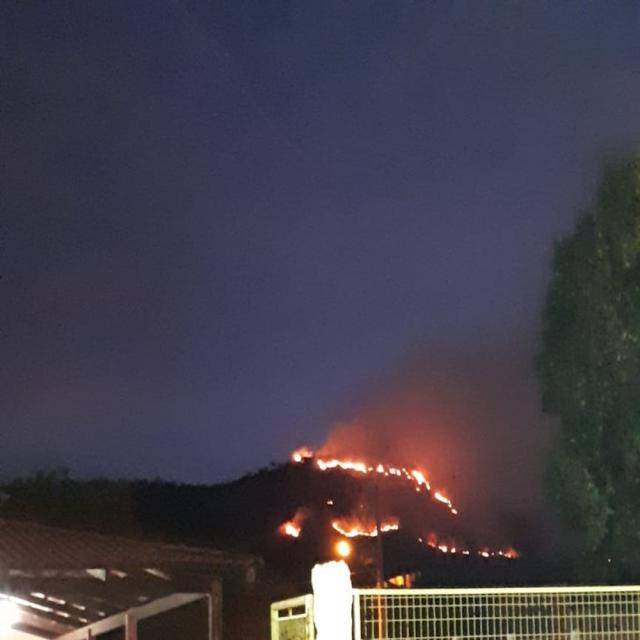Fire: (299, 450, 461, 502), (431, 534, 517, 560), (331, 518, 399, 540), (282, 524, 306, 538)
Smoke: (376, 390, 492, 434)
